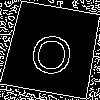O: (27, 24, 78, 78)
